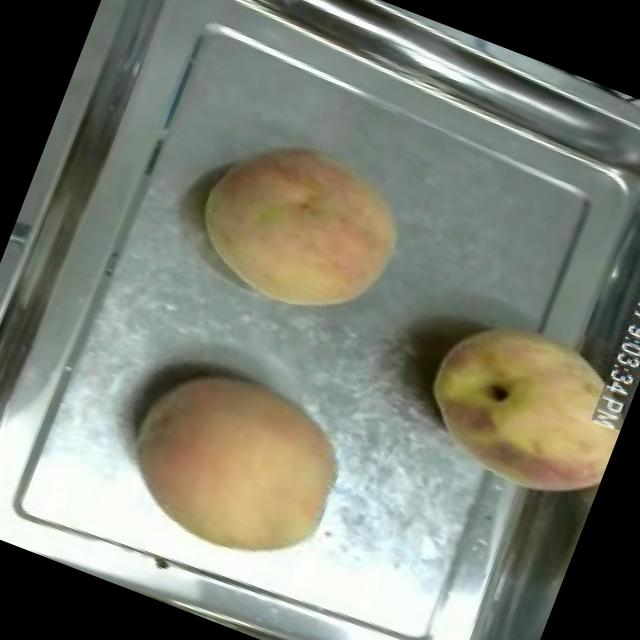Fruit: (94, 338, 370, 592), (173, 110, 428, 346), (397, 291, 640, 522)
